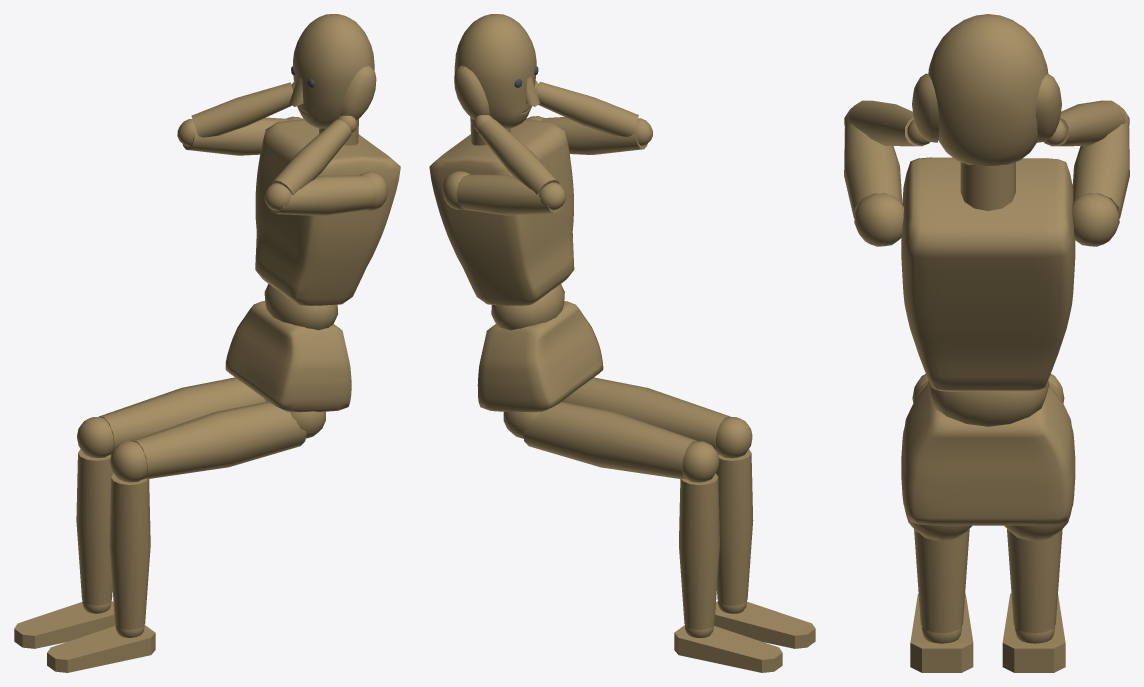
Rendered from hear_no_evil.fbx.
The picture shows the model from 3 angles, left to right: view 1: azimuth 30°, elevation 25°; view 2: azimuth 150°, elevation 25°; view 3: azimuth 270°, elevation 25°; orthographic projection. The views are drawn at different scales.
Parts seen in each view (by area): view 1: hear_no_evil_puppet; view 2: hear_no_evil_puppet; view 3: hear_no_evil_puppet.
Boxes of the visible parts, x1=… form: hear_no_evil_puppet: x1=14, y1=14, x2=400, y2=672; hear_no_evil_puppet: x1=429, y1=14, x2=815, y2=672; hear_no_evil_puppet: x1=844, y1=14, x2=1129, y2=672.
Bounding box in the file's own units: 5.51 × 8.73 × 2.85.
